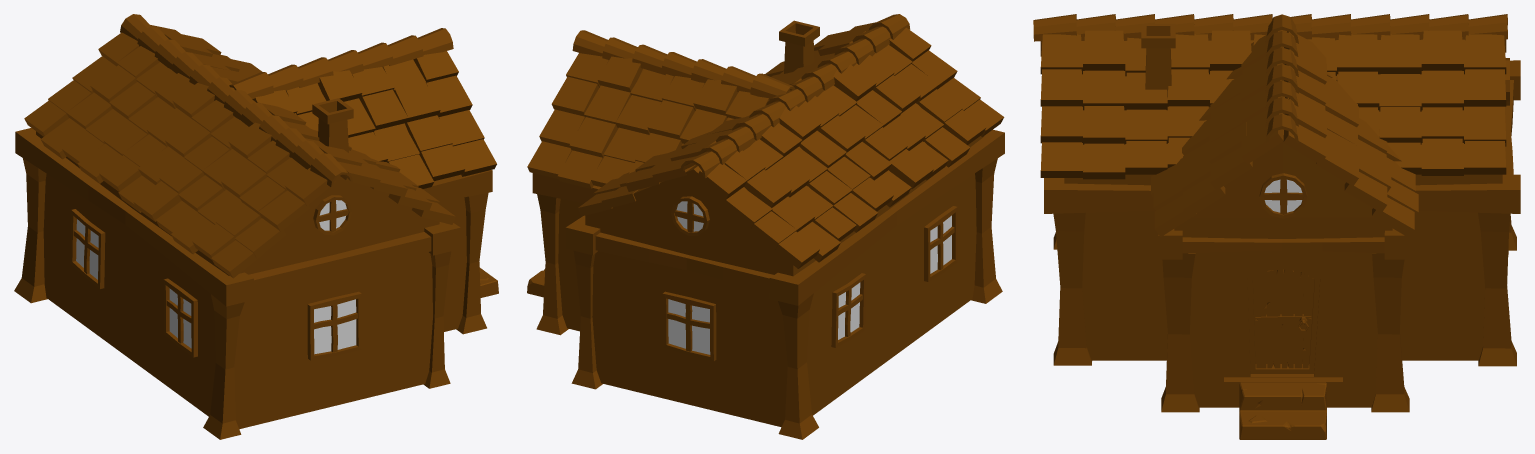
The model's file is дом9 .fbx.
3 renders of one model, left to right at view 1: azimuth 30°, elevation 25°; view 2: azimuth 150°, elevation 25°; view 3: azimuth 270°, elevation 25°, orthographic. The views are drawn at different scales.
Visible parts, largest first — view 1: Куб.046; view 2: Куб.046; view 3: Куб.046.
Part boxes in pixels (<box>): Куб.046: <box>14,14,498,439</box>; Куб.046: <box>527,14,1004,439</box>; Куб.046: <box>1033,14,1520,439</box>.
Size of the model in its own units: 252 by 174 by 258.
